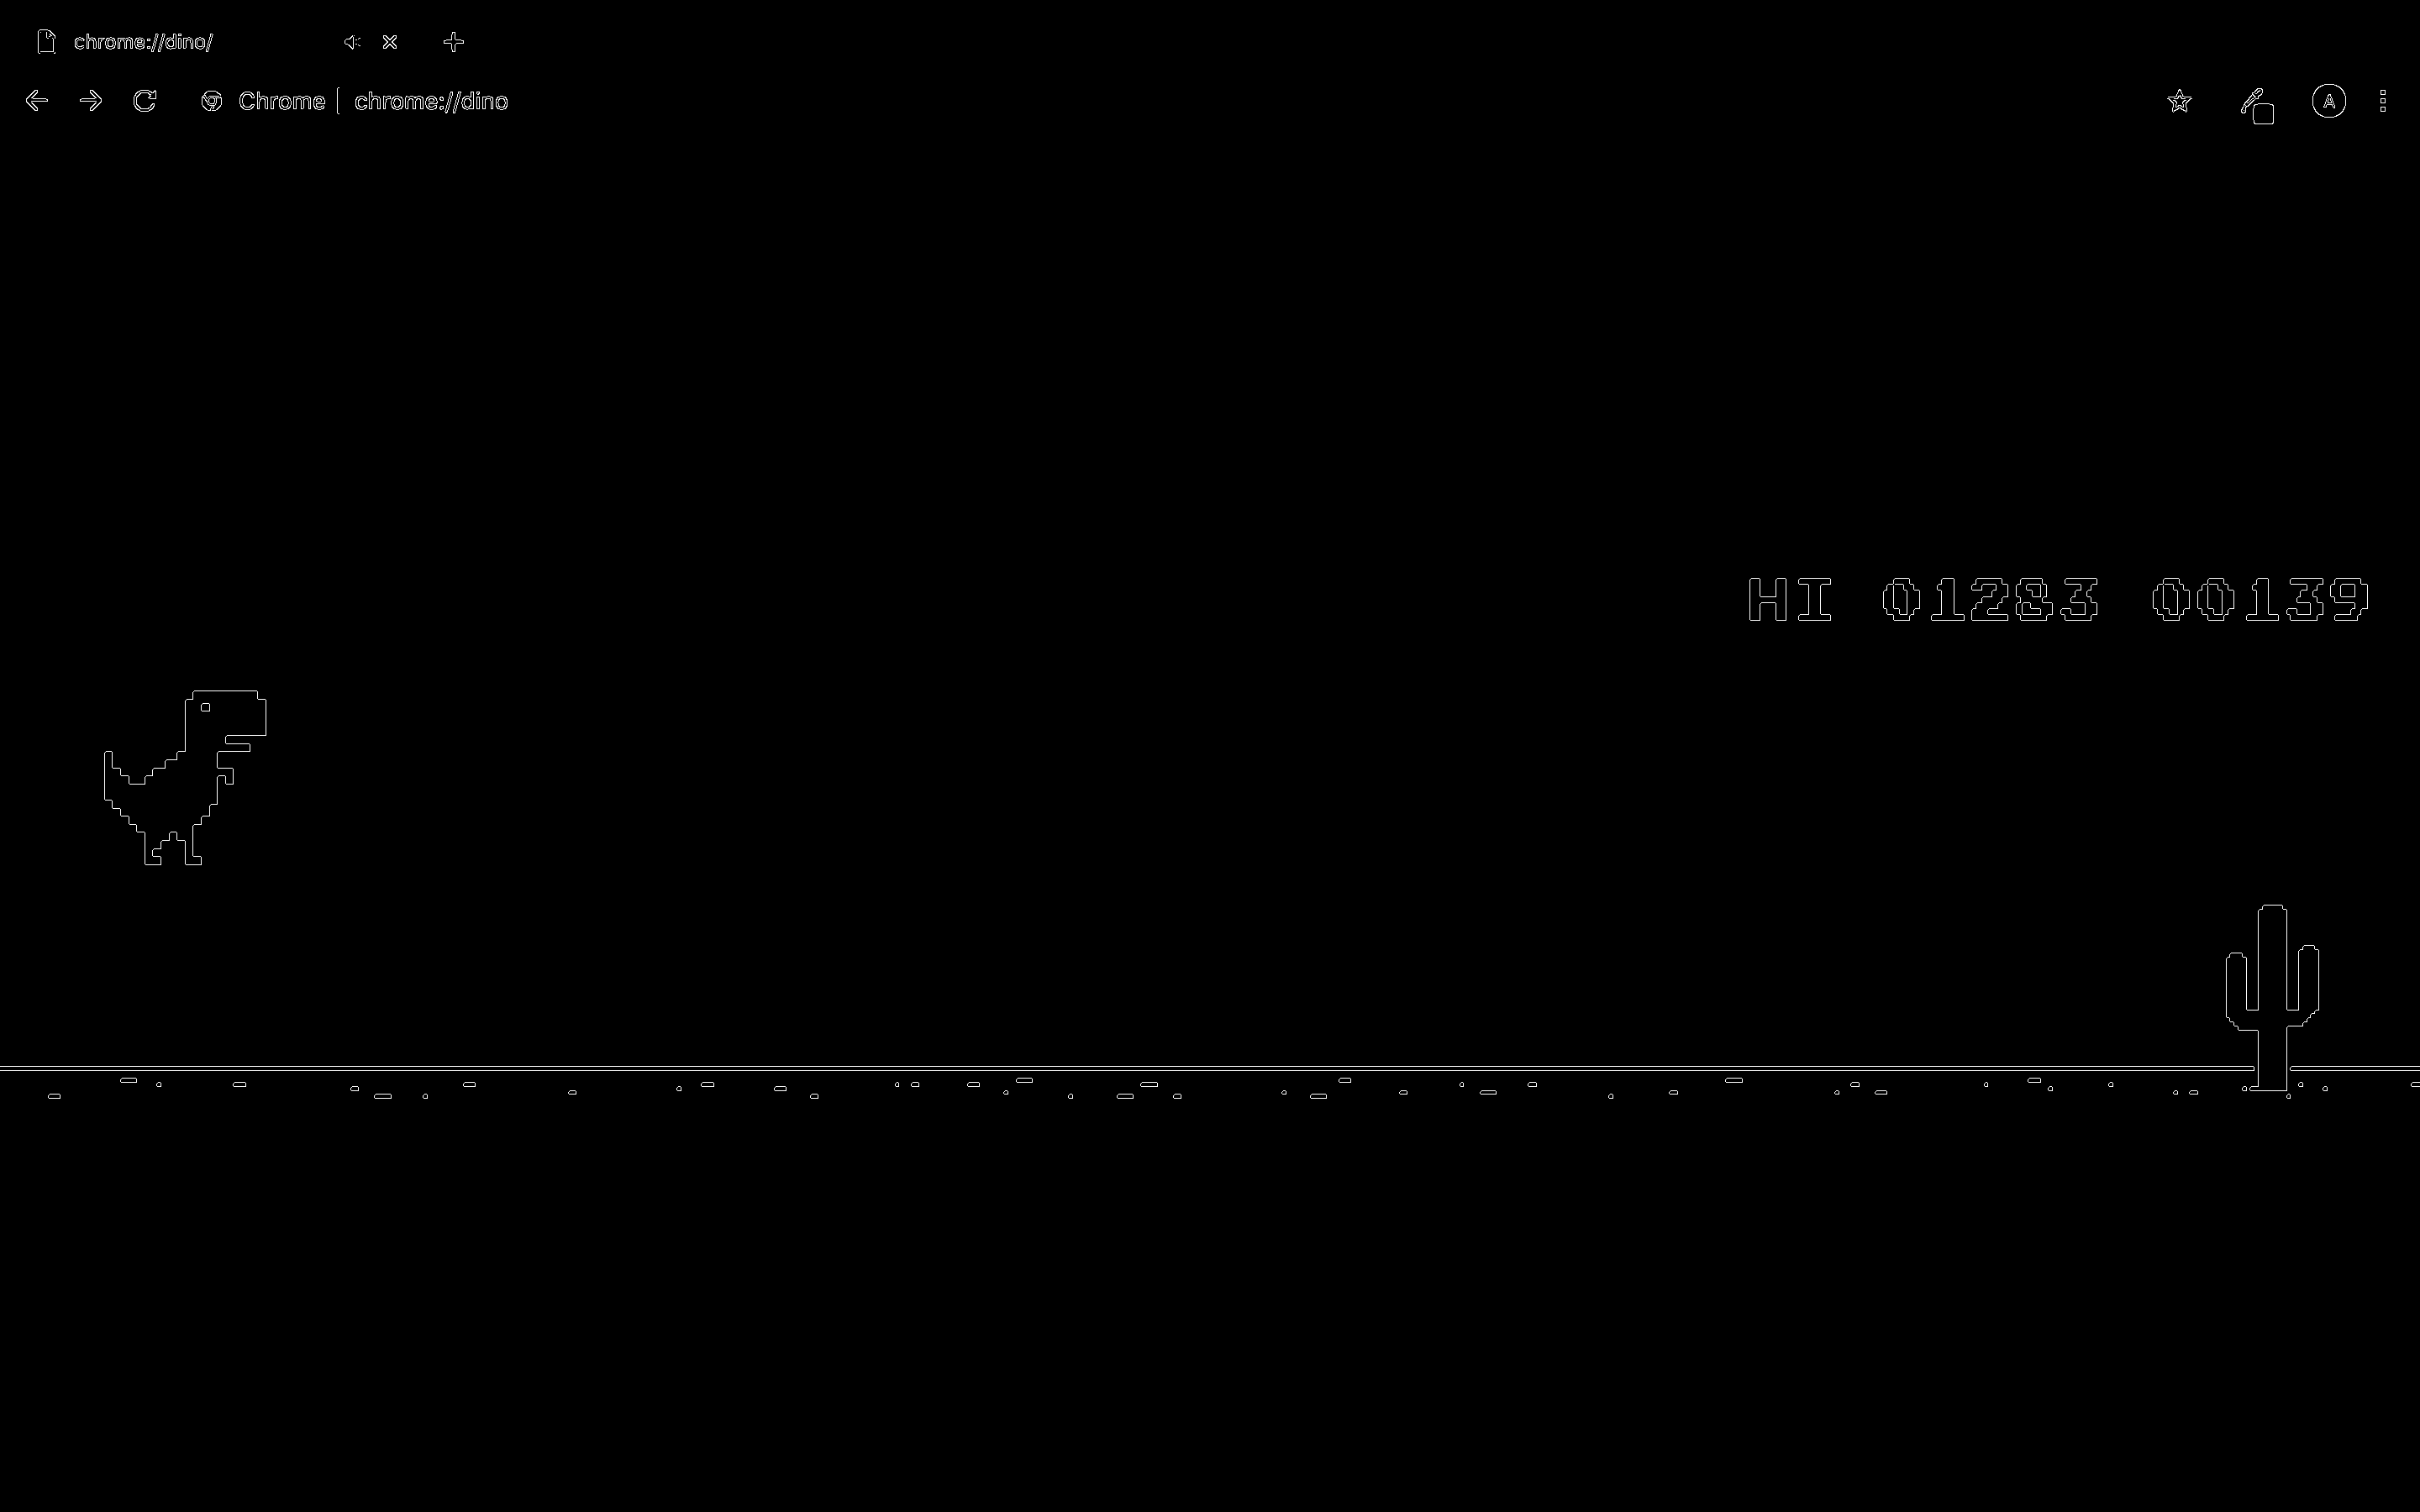Cactus: (2206, 897, 2335, 1097)
Dino: (101, 681, 289, 874)
